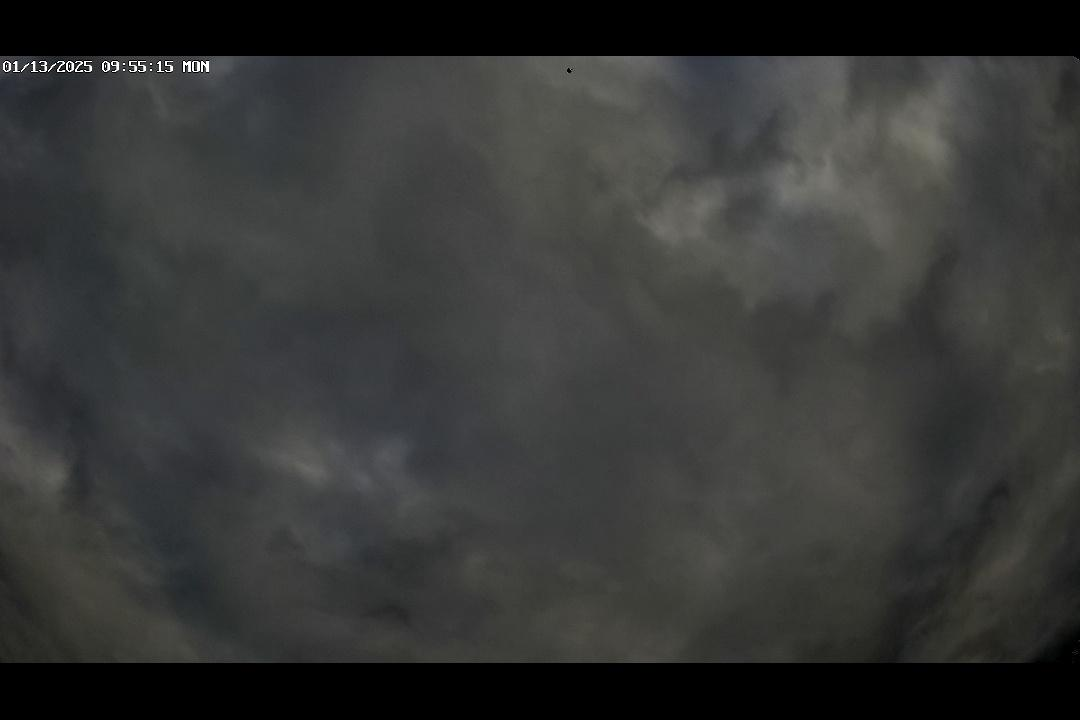WildLife: (560, 60, 580, 76)
